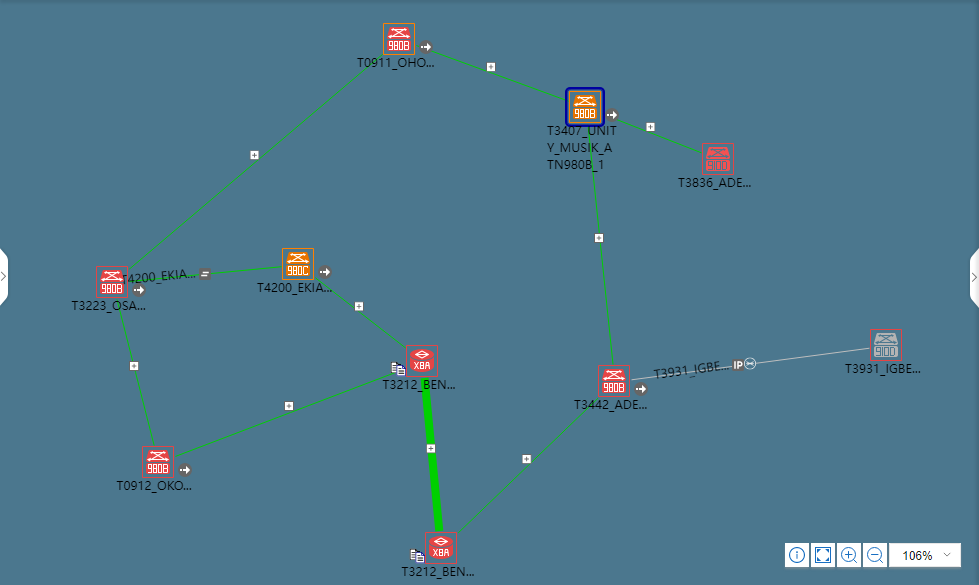ATN_Gray: (872, 332, 899, 360)
ATN_Orange: (285, 253, 314, 282), (572, 94, 601, 123)
ATN_Red: (95, 271, 130, 300), (603, 369, 632, 398), (707, 149, 736, 178), (144, 449, 173, 476), (389, 26, 410, 55)
Link_Gray: (649, 345, 866, 377)
Link_Green: (125, 51, 387, 270), (174, 369, 399, 456), (456, 400, 595, 533), (419, 45, 571, 104), (584, 124, 620, 367), (113, 302, 161, 447), (315, 277, 402, 346), (609, 112, 705, 159), (419, 381, 448, 533), (132, 265, 274, 288)
Router_Red: (407, 345, 442, 380), (425, 534, 460, 562)
